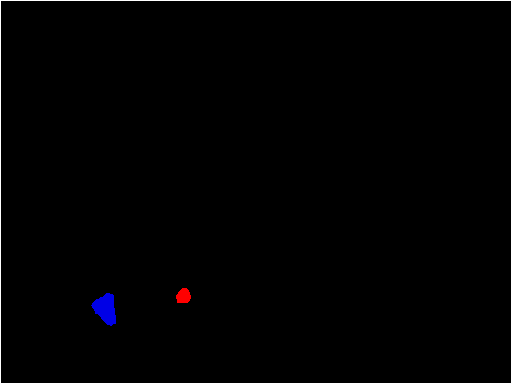chipped: (96, 297, 115, 320)
detached: (177, 288, 191, 303)
